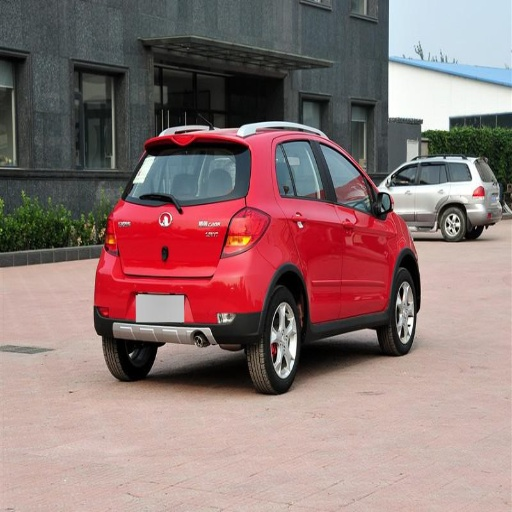back_bumper: (95, 247, 274, 345)
back_right_door: (274, 136, 343, 320)
trunk: (107, 202, 237, 291)
